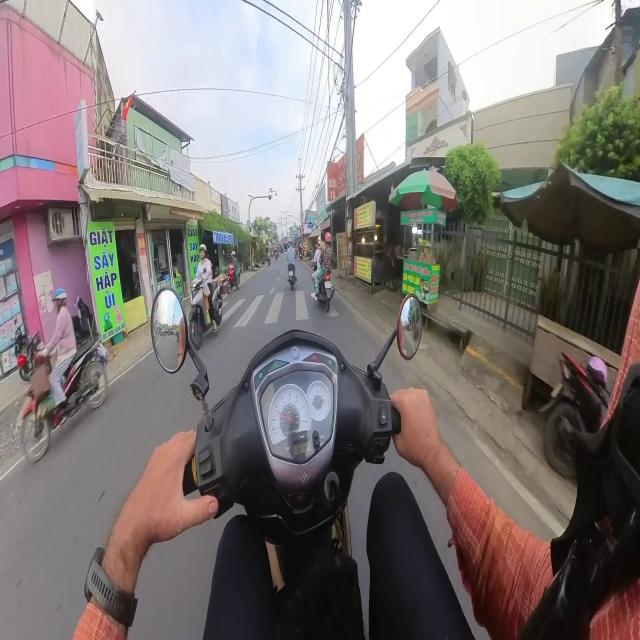motorcycle: (151, 290, 422, 639), (21, 341, 107, 462), (540, 353, 609, 477), (188, 277, 222, 349), (14, 326, 42, 381), (317, 271, 334, 311), (228, 262, 239, 291), (288, 263, 296, 290)
